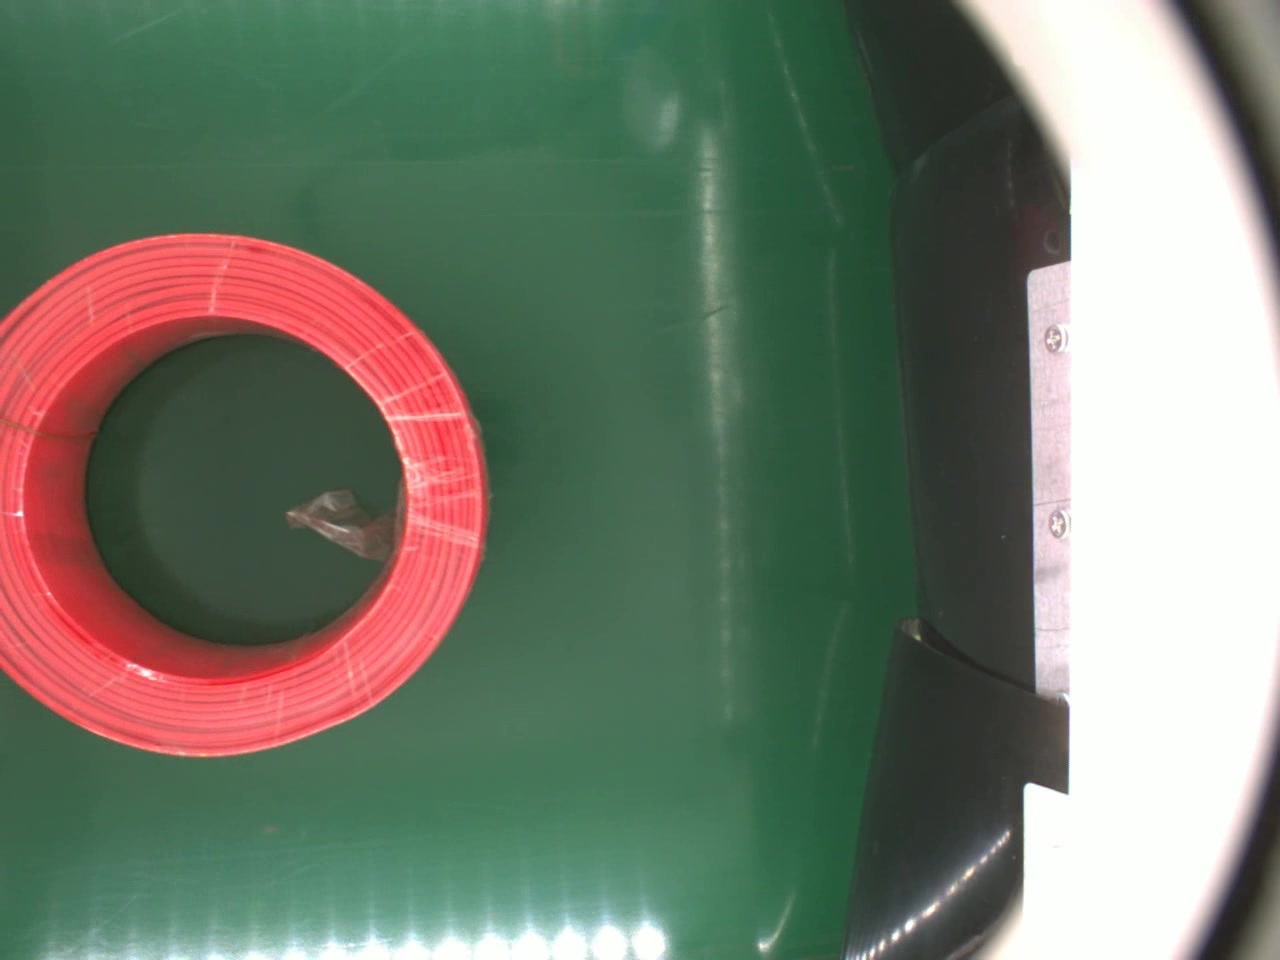red: (0, 231, 488, 757)
